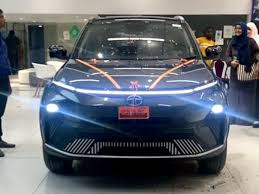Tata Nexon: (37, 12, 231, 176)
